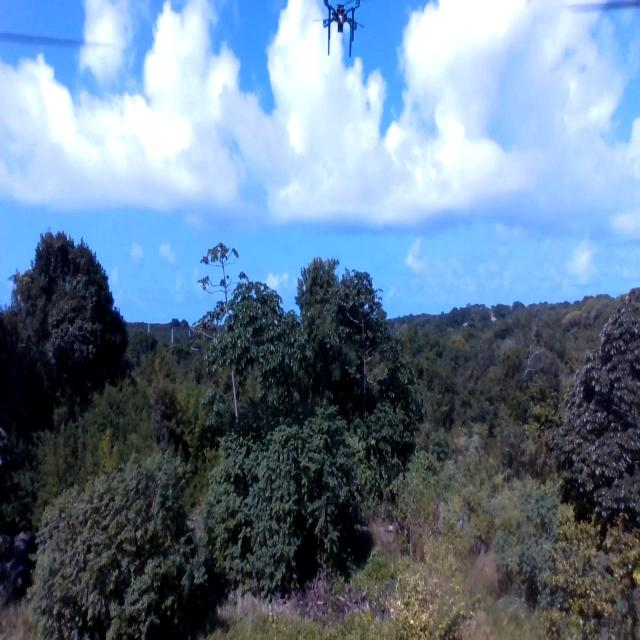-uav-: (310, 1, 371, 64)
